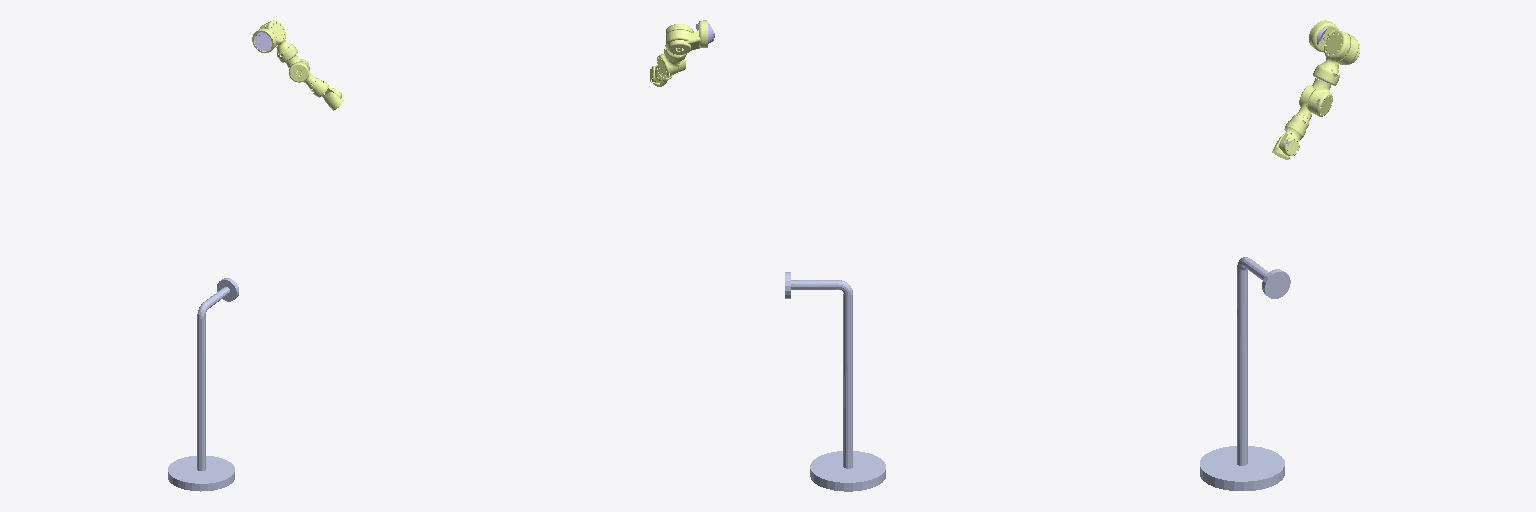
--- Render facts (derived) ---
Views: 3 orthographic renders of the robot side by side, from view 1: azimuth 30°, elevation 25°; view 2: azimuth 150°, elevation 25°; view 3: azimuth 270°, elevation 25°.
Robot: humanoid_arm_5dof — 34 links, 33 joints (6 revolute, 27 fixed); root link base_fixture_link; default pose: all joints at 0.
Visible links, largest first — view 1: base_fixture_link, left_shoulder_roll, left_elbow; view 2: base_fixture_link, left_shoulder_pitch; view 3: base_fixture_link, left_shoulder_roll, left_shoulder_pitch, left_shoulder_yaw, left_wrist.
Boxes of the visible links, x1,y1,x2,y2 form: base_fixture_link: (168,278,238,491); left_shoulder_roll: (265,20,297,62); left_elbow: (289,61,322,92); base_fixture_link: (785,272,885,491); left_shoulder_pitch: (666,20,707,54); base_fixture_link: (1200,257,1290,490); left_shoulder_roll: (1313,31,1350,85); left_shoulder_pitch: (1309,20,1359,64); left_shoulder_yaw: (1308,78,1332,116); left_wrist: (1279,121,1305,155).
Size in the robot's own frame: 1.28 by 0.7498 by 2.62 metres.
Meshes: 34 distinct files referenced, 34 mesh visuals loaded (34 binary STL).

The robot description file, URDF, robot "humanoid_arm_5dof":
<?xml version="1.0" encoding="utf-8"?>
<!-- This URDF was automatically created by SolidWorks to URDF Exporter! Originally created by Stephen Brawner ([email redacted]) 
     Commit Version: 1.6.0-4-g7f85cfe  Build Version: 1.6.7995.38578
     For more information, please see http://wiki.ros.org/sw_urdf_exporter -->
<robot
  name="humanoid_arm_5dof">
  <link
    name="base_fixture_link">
    <inertial>
      <origin
        xyz="0.0200383951813436 0.0118733123574186 0.366640083424823"
        rpy="0 0 0" />
      <mass
        value="10.0408046496141" />
      <inertia
        ixx="2.85095653203043"
        ixy="-0.0251848948200707"
        ixz="-0.217965410721046"
        iyy="2.87853790929507"
        iyz="-0.129150632133139"
        izz="0.185251983223026" />
    </inertial>
    <visual>
      <origin
        xyz="0 0 0"
        rpy="0 0 0" />
      <geometry>
        <mesh
          filename="package://humanoid_arm_5dof/meshes/base_fixture_link.STL" />
      </geometry>
      <material
        name="">
        <color
          rgba="0.792156862745098 0.819607843137255 0.933333333333333 1" />
      </material>
    </visual>
    <collision>
      <origin
        xyz="0 0 0"
        rpy="0 0 0" />
      <geometry>
        <mesh
          filename="package://humanoid_arm_5dof/meshes/base_fixture_link.STL" />
      </geometry>
    </collision>
  </link>
  <link
    name="left_shoulder_pitch_rs04_actuator">
    <inertial>
      <origin
        xyz="-0.0245322216652193 1.17283960321402E-12 -9.62341317745086E-13"
        rpy="0 0 0" />
      <mass
        value="0.517423577893352" />
      <inertia
        ixx="0.000876413569064526"
        ixy="-1.15569175323377E-17"
        ixz="-1.47661559628948E-16"
        iyy="0.000542404795301473"
        iyz="-3.54714747575891E-06"
        izz="0.00054116434911771" />
    </inertial>
    <visual>
      <origin
        xyz="0 0 0"
        rpy="0 0 0" />
      <geometry>
        <mesh
          filename="package://humanoid_arm_5dof/meshes/left_shoulder_pitch_rs04_actuator.STL" />
      </geometry>
      <material
        name="">
        <color
          rgba="0.823529411764706 0.823529411764706 1 1" />
      </material>
    </visual>
    <collision>
      <origin
        xyz="0 0 0"
        rpy="0 0 0" />
      <geometry>
        <mesh
          filename="package://humanoid_arm_5dof/meshes/left_shoulder_pitch_rs04_actuator.STL" />
      </geometry>
    </collision>
  </link>
  <joint
    name="left_shoulder_pitch_rs04_actuator_fixture_link"
    type="fixed">
    <origin
      xyz="0.329242881244431 0.195085661056411 1.45000000000145"
      rpy="-0.61079662163343 0 0.534907346303552" />
    <parent
      link="base_fixture_link" />
    <child
      link="left_shoulder_pitch_rs04_actuator" />
    <axis
      xyz="0 0 0" />
  </joint>
  <link
    name="left_shoulder_pitch_rs04_flange">
    <inertial>
      <origin
        xyz="-0.00188936806429174 -9.55715032069371E-05 2.58079792323507E-05"
        rpy="0 0 0" />
      <mass
        value="0.00758352122244539" />
      <inertia
        ixx="2.3623080270335E-06"
        ixy="3.38151434411678E-21"
        ixz="-3.40136667881805E-21"
        iyy="1.1940642065959E-06"
        iyz="-2.64697796016969E-21"
        izz="1.1940642065959E-06" />
    </inertial>
    <visual>
      <origin
        xyz="0 0 0"
        rpy="0 0 0" />
      <geometry>
        <mesh
          filename="package://humanoid_arm_5dof/meshes/left_shoulder_pitch_rs04_flange.STL" />
      </geometry>
      <material
        name="">
        <color
          rgba="0.823529411764706 0.823529411764706 1 1" />
      </material>
    </visual>
    <collision>
      <origin
        xyz="0 0 0"
        rpy="0 0 0" />
      <geometry>
        <mesh
          filename="package://humanoid_arm_5dof/meshes/left_shoulder_pitch_rs04_flange.STL" />
      </geometry>
    </collision>
  </link>
  <joint
    name="left_shoulder_pitch_rs04_joint"
    type="revolute">
    <origin
      xyz="0 0 0"
      rpy="0 0 0" />
    <parent
      link="left_shoulder_pitch_rs04_actuator" />
    <child
      link="left_shoulder_pitch_rs04_flange" />
    <axis
      xyz="1 0 0" />
    <limit
      lower="-3.14"
      upper="3.14"
      effort="120"
      velocity="3" />
    <safety_controller
      soft_upper_limit="3.14"
      soft_lower_limit="-3.14"
      k_velocity="0" />
  </joint>
  <link
    name="m5x22_screws_left_shoulder_pitch">
    <inertial>
      <origin
        xyz="0.00639350433679509 -0.00479834508260391 0.00128572351563494"
        rpy="0 0 0" />
      <mass
        value="0.00474644340626602" />
      <inertia
        ixx="2.66191925293527E-08"
        ixy="-1.25098390543482E-13"
        ixz="-1.97477628165889E-13"
        iyy="3.31053916794899E-07"
        iyz="8.62570748379259E-14"
        izz="3.31054672965682E-07" />
    </inertial>
    <visual>
      <origin
        xyz="0 0 0"
        rpy="0 0 0" />
      <geometry>
        <mesh
          filename="package://humanoid_arm_5dof/meshes/m5x22_screws_left_shoulder_pitch.STL" />
      </geometry>
      <material
        name="">
        <color
          rgba="0.792156862745098 0.819607843137255 0.933333333333333 1" />
      </material>
    </visual>
    <collision>
      <origin
        xyz="0 0 0"
        rpy="0 0 0" />
      <geometry>
        <mesh
          filename="package://humanoid_arm_5dof/meshes/m5x22_screws_left_shoulder_pitch.STL" />
      </geometry>
    </collision>
  </link>
  <joint
    name="m5x22_screws_left_shoulder_pitch_fixture_joint"
    type="fixed">
    <origin
      xyz="0 0 0"
      rpy="0 0 0" />
    <parent
      link="left_shoulder_pitch_rs04_flange" />
    <child
      link="m5x22_screws_left_shoulder_pitch" />
    <axis
      xyz="0 0 0" />
  </joint>
  <link
    name="left_shoulder_pitch">
    <inertial>
      <origin
        xyz="0.0682474669413152 0.0395514519675162 -5.23399199936492E-06"
        rpy="0 0 0" />
      <mass
        value="1.19772100018969" />
      <inertia
        ixx="0.00347656174617422"
        ixy="-0.00164350112486171"
        ixz="-3.10209101414679E-07"
        iyy="0.00604621894393634"
        iyz="-1.29484961695989E-07"
        izz="0.00615255051609316" />
    </inertial>
    <visual>
      <origin
        xyz="0 0 0"
        rpy="0 0 0" />
      <geometry>
        <mesh
          filename="package://humanoid_arm_5dof/meshes/left_shoulder_pitch.STL" />
      </geometry>
      <material
        name="">
        <color
          rgba="0.952941176470588 0.996078431372549 0.694117647058824 1" />
      </material>
    </visual>
    <collision>
      <origin
        xyz="0 0 0"
        rpy="0 0 0" />
      <geometry>
        <mesh
          filename="package://humanoid_arm_5dof/meshes/left_shoulder_pitch.STL" />
      </geometry>
    </collision>
  </link>
  <joint
    name="left_shoulder_pitch_fixture_joint"
    type="fixed">
    <origin
      xyz="0 0 0"
      rpy="0 0 0" />
    <parent
      link="m5x22_screws_left_shoulder_pitch" />
    <child
      link="left_shoulder_pitch" />
    <axis
      xyz="0 0 0" />
  </joint>
  <link
    name="m5x22_screws_left_shoulder_roll">
    <inertial>
      <origin
        xyz="0.116724155999436 0.0615935045052161 2.41514964096634E-05"
        rpy="0 0 0" />
      <mass
        value="0.00610257053905786" />
      <inertia
        ixx="4.25641380807017E-07"
        ixy="1.38655676077118E-13"
        ixz="4.6529540191251E-13"
        iyy="3.42246799589697E-08"
        iyz="2.62635762215098E-13"
        izz="4.25641102603534E-07" />
    </inertial>
    <visual>
      <origin
        xyz="0 0 0"
        rpy="0 0 0" />
      <geometry>
        <mesh
          filename="package://humanoid_arm_5dof/meshes/m5x22_screws_left_shoulder_roll.STL" />
      </geometry>
      <material
        name="">
        <color
          rgba="0.792156862745098 0.819607843137255 0.933333333333333 1" />
      </material>
    </visual>
    <collision>
      <origin
        xyz="0 0 0"
        rpy="0 0 0" />
      <geometry>
        <mesh
          filename="package://humanoid_arm_5dof/meshes/m5x22_screws_left_shoulder_roll.STL" />
      </geometry>
    </collision>
  </link>
  <joint
    name="m5x22_screws_left_shoulder_roll_fixture_joint"
    type="fixed">
    <origin
      xyz="0 0 0"
      rpy="0 0 0" />
    <parent
      link="left_shoulder_pitch" />
    <child
      link="m5x22_screws_left_shoulder_roll" />
    <axis
      xyz="0 0 0" />
  </joint>
  <link
    name="left_shoulder_roll_rs04_flange">
    <inertial>
      <origin
        xyz="-3.47499806707674E-14 -0.00211063193645256 1.1797052223983E-10"
        rpy="0 0 0" />
      <mass
        value="0.00758352122244542" />
      <inertia
        ixx="1.1940642065959E-06"
        ixy="-8.20563167652603E-22"
        ixz="-4.63221143029695E-22"
        iyy="2.3623080270335E-06"
        iyz="-2.72684316151908E-15"
        izz="1.1940642065959E-06" />
    </inertial>
    <visual>
      <origin
        xyz="0 0 0"
        rpy="0 0 0" />
      <geometry>
        <mesh
          filename="package://humanoid_arm_5dof/meshes/left_shoulder_roll_rs04_flange.STL" />
      </geometry>
      <material
        name="">
        <color
          rgba="0.823529411764706 0.823529411764706 1 1" />
      </material>
    </visual>
    <collision>
      <origin
        xyz="0 0 0"
        rpy="0 0 0" />
      <geometry>
        <mesh
          filename="package://humanoid_arm_5dof/meshes/left_shoulder_roll_rs04_flange.STL" />
      </geometry>
    </collision>
  </link>
  <joint
    name="left_shoulder_roll_rs04_flange_joint"
    type="fixed">
    <origin
      xyz="0.116775431275821 0.0487000000004332 -2.70558071411298E-05"
      rpy="0 0 3.14159265358979" />
    <parent
      link="m5x22_screws_left_shoulder_roll" />
    <child
      link="left_shoulder_roll_rs04_flange" />
    <axis
      xyz="0 0 0" />
  </joint>
  <link
    name="left_shoulder_roll_rs04_actuator">
    <inertial>
      <origin
        xyz="7.5431275761817E-05 0.0205322216645354 2.70558719566161E-05"
        rpy="0 0 0" />
      <mass
        value="0.517423577893356" />
      <inertia
        ixx="0.000542006962748034"
        ixy="-8.42033081173248E-15"
        ixz="-3.59408880621033E-06"
        iyy="0.000876413569064537"
        iyz="-7.81742997158635E-13"
        izz="0.000541562181671229" />
    </inertial>
    <visual>
      <origin
        xyz="0 0 0"
        rpy="0 0 0" />
      <geometry>
        <mesh
          filename="package://humanoid_arm_5dof/meshes/left_shoulder_roll_rs04_actuator.STL" />
      </geometry>
      <material
        name="">
        <color
          rgba="0.823529411764706 0.823529411764706 1 1" />
      </material>
    </visual>
    <collision>
      <origin
        xyz="0 0 0"
        rpy="0 0 0" />
      <geometry>
        <mesh
          filename="package://humanoid_arm_5dof/meshes/left_shoulder_roll_rs04_actuator.STL" />
      </geometry>
    </collision>
  </link>
  <joint
    name="left_shoulder_roll_rs04_joint"
    type="revolute">
    <origin
      xyz="0 0 0"
      rpy="0 0 0" />
    <parent
      link="left_shoulder_roll_rs04_flange" />
    <child
      link="left_shoulder_roll_rs04_actuator" />
    <axis
      xyz="0 -1 0" />
    <limit
      lower="-3.5"
      upper="0.6"
      effort="120"
      velocity="3" />
    <safety_controller
      soft_upper_limit="3.14"
      soft_lower_limit="-3.14"
      k_velocity="0" />
  </joint>
  <link
    name="m4x25_left_shoulder_screws_roll">
    <inertial>
      <origin
        xyz="5.45041063048091E-05 0.0496289837029047 5.40653504537136E-05"
        rpy="0 0 0" />
      <mass
        value="0.00451430348886338" />
      <inertia
        ixx="3.68173387240373E-07"
        ixy="-6.77491685654944E-15"
        ixz="6.50698816450757E-17"
        iyy="1.54230097659287E-08"
        iyz="3.36388331196065E-16"
        izz="3.68173386339836E-07" />
    </inertial>
    <visual>
      <origin
        xyz="0 0 0"
        rpy="0 0 0" />
      <geometry>
        <mesh
          filename="package://humanoid_arm_5dof/meshes/m4x25_left_shoulder_screws_roll.STL" />
      </geometry>
      <material
        name="">
        <color
          rgba="0.792156862745098 0.819607843137255 0.933333333333333 1" />
      </material>
    </visual>
    <collision>
      <origin
        xyz="0 0 0"
        rpy="0 0 0" />
      <geometry>
        <mesh
          filename="package://humanoid_arm_5dof/meshes/m4x25_left_shoulder_screws_roll.STL" />
      </geometry>
    </collision>
  </link>
  <joint
    name="m4x25_left_shoulder_screws_roll_fixture_joint"
    type="fixed">
    <origin
      xyz="0 0 0"
      rpy="0 0 0" />
    <parent
      link="left_shoulder_roll_rs04_actuator" />
    <child
      link="m4x25_left_shoulder_screws_roll" />
    <axis
      xyz="0 0 0" />
  </joint>
  <link
    name="left_shoulder_roll">
    <inertial>
      <origin
        xyz="-0.00752228691013401 0.0497547007138057 -0.0556811680024578"
        rpy="0 0 0" />
      <mass
        value="0.997620690019998" />
      <inertia
        ixx="0.00534467265523802"
        ixy="-8.46143380992818E-05"
        ixz="-0.000430210472532785"
        iyy="0.00591903784526592"
        iyz="-0.000640722365831411"
        izz="0.00178281861548494" />
    </inertial>
    <visual>
      <origin
        xyz="0 0 0"
        rpy="0 0 0" />
      <geometry>
        <mesh
          filename="package://humanoid_arm_5dof/meshes/left_shoulder_roll.STL" />
      </geometry>
      <material
        name="">
        <color
          rgba="0.952941176470588 0.996078431372549 0.694117647058824 1" />
      </material>
    </visual>
    <collision>
      <origin
        xyz="0 0 0"
        rpy="0 0 0" />
      <geometry>
        <mesh
          filename="package://humanoid_arm_5dof/meshes/left_shoulder_roll.STL" />
      </geometry>
    </collision>
  </link>
  <joint
    name="left_shoulde_roll_fixture_joint"
    type="fixed">
    <origin
      xyz="0 0 0"
      rpy="0 0 0" />
    <parent
      link="m4x25_left_shoulder_screws_roll" />
    <child
      link="left_shoulder_roll" />
    <axis
      xyz="0 0 0" />
  </joint>
  <link
    name="m4x16_left_shoulder_yaw_screws">
    <inertial>
      <origin
        xyz="2.30950814028574E-10 5.06211073059148E-10 0.0451525729719058"
        rpy="0 0 0" />
      <mass
        value="0.00270184474693413" />
      <inertia
        ixx="1.03557857485271E-07"
        ixy="1.5585002358545E-16"
        ixz="-1.92166044513534E-15"
        iyy="1.0355785773746E-07"
        iyz="-4.01415381842613E-15"
        izz="1.05098007898705E-08" />
    </inertial>
    <visual>
      <origin
        xyz="0 0 0"
        rpy="0 0 0" />
      <geometry>
        <mesh
          filename="package://humanoid_arm_5dof/meshes/m4x16_left_shoulder_yaw_screws.STL" />
      </geometry>
      <material
        name="">
        <color
          rgba="0.792156862745098 0.819607843137255 0.933333333333333 1" />
      </material>
    </visual>
    <collision>
      <origin
        xyz="0 0 0"
        rpy="0 0 0" />
      <geometry>
        <mesh
          filename="package://humanoid_arm_5dof/meshes/m4x16_left_shoulder_yaw_screws.STL" />
      </geometry>
    </collision>
  </link>
  <joint
    name="m4x16_left_shoulder_yaw_screws_fixture_joint"
    type="fixed">
    <origin
      xyz="-0.021972 0.0377 -0.17358"
      rpy="0.057123 0.11257 0.47088" />
    <parent
      link="left_shoulder_roll" />
    <child
      link="m4x16_left_shoulder_yaw_screws" />
    <axis
      xyz="0 0 0" />
  </joint>
  <link
    name="left_shoulder_yaw_rs03_actuator">
    <inertial>
      <origin
        xyz="-0.000137350571109196 -0.000269996934420202 0.02508416517084"
        rpy="0 0 0" />
      <mass
        value="0.356550969588108" />
      <inertia
        ixx="0.000274320425080908"
        ixy="-2.07349930601436E-06"
        ixz="-2.56253646594402E-07"
        iyy="0.000271291938182262"
        iyz="-5.14924748624114E-07"
        izz="0.000381662133737712" />
    </inertial>
    <visual>
      <origin
        xyz="0 0 0"
        rpy="0 0 0" />
      <geometry>
        <mesh
          filename="package://humanoid_arm_5dof/meshes/left_shoulder_yaw_rs03_actuator.STL" />
      </geometry>
      <material
        name="">
        <color
          rgba="0.823529411764706 0.823529411764706 1 1" />
      </material>
    </visual>
    <collision>
      <origin
        xyz="0 0 0"
        rpy="0 0 0" />
      <geometry>
        <mesh
          filename="package://humanoid_arm_5dof/meshes/left_shoulder_yaw_rs03_actuator.STL" />
      </geometry>
    </collision>
  </link>
  <joint
    name="left_shoulder_yaw_rs03_actuator_fixture_link"
    type="fixed">
    <origin
      xyz="0 0 0"
      rpy="0 0 0" />
    <parent
      link="m4x16_left_shoulder_yaw_screws" />
    <child
      link="left_shoulder_yaw_rs03_actuator" />
    <axis
      xyz="0 0 0" />
  </joint>
  <link
    name="left_shoulder_yaw_rs03_flange">
    <inertial>
      <origin
        xyz="-1.87114213012762E-10 -3.64114516315794E-10 -0.00125625967423182"
        rpy="0 0 0" />
      <mass
        value="0.00407555097398881" />
      <inertia
        ixx="5.67676746163435E-07"
        ixy="1.60142166590266E-21"
        ixz="6.47210061448945E-16"
        iyy="5.6767674616344E-07"
        iyz="1.28044726556791E-15"
        izz="1.13114082374845E-06" />
    </inertial>
    <visual>
      <origin
        xyz="0 0 0"
        rpy="0 0 0" />
      <geometry>
        <mesh
          filename="package://humanoid_arm_5dof/meshes/left_shoulder_yaw_rs03_flange.STL" />
      </geometry>
      <material
        name="">
        <color
          rgba="0.823529411764706 0.823529411764706 1 1" />
      </material>
    </visual>
    <collision>
      <origin
        xyz="0 0 0"
        rpy="0 0 0" />
      <geometry>
        <mesh
          filename="package://humanoid_arm_5dof/meshes/left_shoulder_yaw_rs03_flange.STL" />
      </geometry>
    </collision>
  </link>
  <joint
    name="left_shoulder_yaw_rs03_joint"
    type="revolute">
    <origin
      xyz="0 0 0"
      rpy="0 0 0" />
    <parent
      link="left_shoulder_yaw_rs03_actuator" />
    <child
      link="left_shoulder_yaw_rs03_flange" />
    <axis
      xyz="0 0 1" />
    <limit
      lower="-3.14"
      upper="3.14"
      effort="60"
      velocity="1.6" />
    <safety_controller
      soft_upper_limit="3.14"
      soft_lower_limit="-3.14"
      k_velocity="0" />
  </joint>
  <link
    name="left_shoulder_yaw_shaft">
    <inertial>
      <origin
        xyz="-2.02680094929519E-10 -3.89372090126017E-10 -0.0119851125561186"
        rpy="0 0 0" />
      <mass
        value="0.000903649674374" />
      <inertia
        ixx="4.41715688076243E-08"
        ixy="-6.82424005356248E-24"
        ixz="-4.86629629806428E-17"
        iyy="4.41715688076243E-08"
        iyz="-9.62753835773825E-17"
        izz="1.8053981329595E-09" />
    </inertial>
    <visual>
      <origin
        xyz="0 0 0"
        rpy="0 0 0" />
      <geometry>
        <mesh
          filename="package://humanoid_arm_5dof/meshes/left_shoulder_yaw_shaft.STL" />
      </geometry>
      <material
        name="">
        <color
          rgba="0.823529411764706 0.823529411764706 1 1" />
      </material>
    </visual>
    <collision>
      <origin
        xyz="0 0 0"
        rpy="0 0 0" />
      <geometry>
        <mesh
          filename="package://humanoid_arm_5dof/meshes/left_shoulder_yaw_shaft.STL" />
      </geometry>
    </collision>
  </link>
  <joint
    name="left_shoulder_yaw_shaft_fixture_joint"
    type="fixed">
    <origin
      xyz="0 0 0"
      rpy="0 0 0" />
    <parent
      link="left_shoulder_yaw_rs03_flange" />
    <child
      link="left_shoulder_yaw_shaft" />
    <axis
      xyz="0 0 0" />
    <limit
      lower="0"
      upper="0"
      effort="0"
      velocity="0" />
  </joint>
  <link
    name="left_shoulder_yaw_flange">
    <inertial>
      <origin
        xyz="-1.95517602108453E-10 -3.76683129132971E-10 -0.00898037825638709"
        rpy="0 0 0" />
      <mass
        value="0.035353146109952" />
      <inertia
        ixx="9.85459914701274E-06"
        ixy="-7.54070449822593E-08"
        ixz="1.07041732007387E-14"
        iyy="9.5933770582241E-06"
        iyz="2.03233659115925E-14"
        izz="1.87117812635894E-05" />
    </inertial>
    <visual>
      <origin
        xyz="0 0 0"
        rpy="0 0 0" />
      <geometry>
        <mesh
          filename="package://humanoid_arm_5dof/meshes/left_shoulder_yaw_flange.STL" />
      </geometry>
      <material
        name="">
        <color
          rgba="0.952941176470588 0.996078431372549 0.694117647058824 1" />
      </material>
    </visual>
    <collision>
      <origin
        xyz="0 0 0"
        rpy="0 0 0" />
      <geometry>
        <mesh
          filename="package://humanoid_arm_5dof/meshes/left_shoulder_yaw_flange.STL" />
      </geometry>
    </collision>
  </link>
  <joint
    name="left_shoulder_yaw_flange_fixture_joint"
    type="fixed">
    <origin
      xyz="0 0 0"
      rpy="0 0 0" />
    <parent
      link="left_shoulder_yaw_shaft" />
    <child
      link="left_shoulder_yaw_flange" />
    <axis
      xyz="0 0 0" />
  </joint>
  <link
    name="1220_m4x16_left_shoulder_yaw_screws">
    <inertial>
      <origin
        xyz="-2.81852874373101E-10 1.37418965096003E-11 -0.0114719356062276"
        rpy="0 0 0" />
      <mass
        value="0.0014103641869818" />
      <inertia
        ixx="3.71610598568609E-08"
        ixy="-3.34573878262386E-21"
        ixz="-3.74186542691842E-17"
        iyy="3.71610598568593E-08"
        iyz="-7.40170108439937E-17"
        izz="4.58636225470942E-09" />
    </inertial>
    <visual>
      <origin
        xyz="0 0 0"
        rpy="0 0 0" />
      <geometry>
        <mesh
          filename="package://humanoid_arm_5dof/meshes/1220_m4x16_left_shoulder_yaw_screws.STL" />
      </geometry>
      <material
        name="">
        <color
          rgba="0.792156862745098 0.819607843137255 0.933333333333333 1" />
      </material>
    </visual>
    <collision>
      <origin
        xyz="0 0 0"
        rpy="0 0 0" />
      <geometry>
        <mesh
          filename="package://humanoid_arm_5dof/meshes/1220_m4x16_left_shoulder_yaw_screws.STL" />
      </geometry>
    </collision>
  </link>
  <joint
    name="1220_m4x16_left_shoulder_yaw_screws_fixture_joint"
    type="fixed">
    <origin
      xyz="0 0 0"
      rpy="0 0 0" />
    <parent
      link="left_shoulder_yaw_flange" />
    <child
      link="1220_m4x16_left_shoulder_yaw_screws" />
    <axis
      xyz="0 0 0" />
  </joint>
  <link
    name="m4x25_left_shoulder_yaw_screws">
    <inertial>
      <origin
        xyz="-7.14075243379853E-10 -1.46624090646696E-09 -0.0144289836576852"
        rpy="0 0 0" />
      <mass
        value="0.00270858202481966" />
      <inertia
        ixx="2.20903769276245E-07"
        ixy="4.52767736253233E-13"
        ixz="-2.02342446045285E-15"
        iyy="2.2090429349599E-07"
        iyz="-4.21234135285762E-15"
        izz="9.25380471510245E-09" />
    </inertial>
    <visual>
      <origin
        xyz="0 0 0"
        rpy="0 0 0" />
      <geometry>
        <mesh
          filename="package://humanoid_arm_5dof/meshes/m4x25_left_shoulder_yaw_screws.STL" />
      </geometry>
      <material
        name="">
        <color
          rgba="0.792156862745098 0.819607843137255 0.933333333333333 1" />
      </material>
    </visual>
    <collision>
      <origin
        xyz="0 0 0"
        rpy="0 0 0" />
      <geometry>
        <mesh
          filename="package://humanoid_arm_5dof/meshes/m4x25_left_shoulder_yaw_screws.STL" />
      </geometry>
    </collision>
  </link>
  <joint
    name="m4x25_left_shoulder_yaw_screws_fixture_joint"
    type="fixed">
    <origin
      xyz="0 0 0"
      rpy="0 0 0" />
    <parent
      link="1220_m4x16_left_shoulder_yaw_screws" />
    <child
      link="m4x25_left_shoulder_yaw_screws" />
    <axis
      xyz="0 0 0" />
  </joint>
  <link
    name="left_shoulder_yaw">
    <inertial>
      <origin
        xyz="-0.0276085511800001 1.01191147727775E-06 -0.0766319307372525"
        rpy="0 0 0" />
      <mass
        value="0.488068654985182" />
      <inertia
        ixx="0.00146908224164198"
        ixy="2.07765537622168E-07"
        ixz="-0.0002712158976042"
        iyy="0.00131630379047452"
        iyz="6.91084280013616E-08"
        izz="0.000811624953253176" />
    </inertial>
    <visual>
      <origin
        xyz="0 0 0"
        rpy="0 0 0" />
      <geometry>
        <mesh
          filename="package://humanoid_arm_5dof/meshes/left_shoulder_yaw.STL" />
      </geometry>
      <material
        name="">
        <color
          rgba="0.952941176470588 0.996078431372549 0.694117647058824 1" />
      </material>
    </visual>
    <collision>
      <origin
        xyz="0 0 0"
        rpy="0 0 0" />
      <geometry>
        <mesh
          filename="package://humanoid_arm_5dof/meshes/left_shoulder_yaw.STL" />
      </geometry>
    </collision>
  </link>
  <joint
    name="left_shoulder_yaw_fixture_joint"
    type="fixed">
    <origin
      xyz="0 0 0"
      rpy="0 0 0" />
    <parent
      link="m4x25_left_shoulder_yaw_screws" />
    <child
      link="left_shoulder_yaw" />
    <axis
      xyz="0 0 0" />
  </joint>
  <link
    name="m4x16_eft_elbow_screws">
    <inertial>
      <origin
        xyz="0.0203953561620978 0.0412900580937556 9.08278563471754E-10"
        rpy="0 0 0" />
      <mass
        value="0.00270184358647752" />
      <inertia
        ixx="8.53078780998125E-08"
        ixy="-3.69467570072025E-08"
        ixz="-1.81084961912539E-15"
        iyy="2.8759756336897E-08"
        iyz="-3.58607420046829E-15"
        izz="1.03557847634921E-07" />
    </inertial>
    <visual>
      <origin
        xyz="0 0 0"
        rpy="0 0 0" />
      <geometry>
        <mesh
          filename="package://humanoid_arm_5dof/meshes/m4x16_eft_elbow_screws.STL" />
      </geometry>
      <material
        name="">
        <color
          rgba="0.792156862745098 0.819607843137255 0.933333333333333 1" />
      </material>
    </visual>
    <collision>
      <origin
        xyz="0 0 0"
        rpy="0 0 0" />
      <geometry>
        <mesh
          filename="package://humanoid_arm_5dof/meshes/m4x16_eft_elbow_screws.STL" />
      </geometry>
    </collision>
  </link>
  <joint
    name="m4x16_eft_elbow_screws_fixture_joint"
    type="fixed">
    <origin
      xyz="0 0 -0.0987000004167595"
      rpy="0 0 2.02959481544726" />
    <parent
      link="left_shoulder_yaw" />
    <child
      link="m4x16_eft_elbow_screws" />
    <axis
      xyz="0 0 0" />
  </joint>
  <link
    name="left_elbow_rs03_actuator">
    <inertial>
      <origin
        xyz="0.0111097812067071 0.022489732261155 -0.000302908478301722"
        rpy="0 0 0" />
      <mass
        value="0.35655089089686" />
      <inertia
        ixx="0.000296217970952692"
        ixy="4.22025243355313E-05"
        ixz="-2.44834218567739E-07"
        iyy="0.000360818228627732"
        iyz="-5.20600164179532E-07"
        izz="0.000270239476177012" />
    </inertial>
    <visual>
      <origin
        xyz="0 0 0"
        rpy="0 0 0" />
      <geometry>
        <mesh
          filename="package://humanoid_arm_5dof/meshes/left_elbow_rs03_actuator.STL" />
      </geometry>
      <material
        name="">
        <color
          rgba="0.823529411764706 0.823529411764706 1 1" />
      </material>
    </visual>
    <collision>
      <origin
        xyz="0 0 0"
        rpy="0 0 0" />
      <geometry>
        <mesh
          filename="package://humanoid_arm_5dof/meshes/left_elbow_rs03_actuator.STL" />
      </geometry>
    </collision>
  </link>
  <joint
    name="left_elbow_rs03_actuator_ficture_link"
    type="fixed">
    <origin
      xyz="0 0 0"
      rpy="0 0 0" />
    <parent
      link="m4x16_eft_elbow_screws" />
    <child
      link="left_elbow_rs03_actuator" />
    <axis
      xyz="0 0 0" />
  </joint>
  <link
    name="left_elbow_rs03_flange">
    <inertial>
      <origin
        xyz="-0.000556362193148363 -0.00112634311572446 -1.66571867410426E-10"
        rpy="0 0 0" />
      <mass
        value="0.00407555097398885" />
      <inertia
        ixx="6.7819170155555E-07"
        ixy="2.23735674477819E-07"
        ixz="2.60474555916408E-16"
        iyy="1.02062586835636E-06"
        iyz="5.27326436127583E-16"
        izz="5.67676746163446E-07" />
    </inertial>
    <visual>
      <origin
        xyz="0 0 0"
        rpy="0 0 0" />
      <geometry>
        <mesh
          filename="package://humanoid_arm_5dof/meshes/left_elbow_rs03_flange.STL" />
      </geometry>
      <material
        name="">
        <color
          rgba="0.823529411764706 0.823529411764706 1 1" />
      </material>
    </visual>
    <collision>
      <origin
        xyz="0 0 0"
        rpy="0 0 0" />
      <geometry>
        <mesh
          filename="package://humanoid_arm_5dof/meshes/left_elbow_rs03_flange.STL" />
      </geometry>
    </collision>
  </link>
  <joint
    name="left_elbow_rs03_joint"
    type="revolute">
    <origin
      xyz="0 0 0"
      rpy="0 0 0" />
    <parent
      link="left_elbow_rs03_actuator" />
    <child
      link="left_elbow_rs03_flange" />
    <axis
      xyz="0.442871169532447 0.896585259301625 0" />
    <limit
      lower="-1.3"
      upper="1.9"
      effort="60"
      velocity="1.6" />
    <safety_controller
      soft_upper_limit="3.14"
      soft_lower_limit="-3.14"
      k_velocity="0" />
  </joint>
  <link
    name="left_elbow_shaft">
    <inertial>
      <origin
        xyz="-0.514023069140735 0.0789116755168446 -0.294612658289237"
        rpy="0 0 0" />
      <mass
        value="16.3859228521728" />
      <inertia
        ixx="4.1673871202224"
        ixy="0.924028147321054"
        ixz="-3.13052394045389"
        iyy="7.10700853734092"
        iyz="1.12422208277889"
        izz="3.92149051316227" />
    </inertial>
    <visual>
      <origin
        xyz="0 0 0"
        rpy="0 0 0" />
      <geometry>
        <mesh
          filename="package://humanoid_arm_5dof/meshes/left_elbow_shaft.STL" />
      </geometry>
      <material
        name="">
        <color
          rgba="0.752941176470588 0.752941176470588 0.752941176470588 1" />
      </material>
    </visual>
    <collision>
      <origin
        xyz="0 0 0"
        rpy="0 0 0" />
      <geometry>
        <mesh
          filename="package://humanoid_arm_5dof/meshes/left_elbow_shaft.STL" />
      </geometry>
    </collision>
  </link>
  <joint
    name="left_elbow_shaft_fixture_joint"
    type="fixed">
    <origin
      xyz="0 0 0"
      rpy="0 0 0" />
    <parent
      link="left_elbow_rs03_flange" />
    <child
      link="left_elbow_shaft" />
    <axis
      xyz="0 0 0" />
  </joint>
  <link
    name="m4x25_left_elbow_screws">
    <inertial>
      <origin
        xyz="-0.00623517634432247 -0.0126230081894332 -1.57502966224854E-09"
        rpy="0 0 0" />
      <mass
        value="0.00270858033444496" />
      <inertia
        ixx="1.79392020952072E-07"
        ixy="-8.40403333155854E-08"
        ixz="-2.22145094796311E-15"
        iyy="5.0765769574879E-08"
        iyz="-4.80384087242943E-15"
        izz="2.20904014947486E-07" />
    </inertial>
    <visual>
      <origin
        xyz="0 0 0"
        rpy="0 0 0" />
      <geometry>
        <mesh
          filename="package://humanoid_arm_5dof/meshes/m4x25_left_elbow_screws.STL" />
      </geometry>
      <material
        name="">
        <color
          rgba="0.792156862745098 0.819607843137255 0.933333333333333 1" />
      </material>
    </visual>
    <collision>
      <origin
        xyz="0 0 0"
        rpy="0 0 0" />
      <geometry>
        <mesh
          filename="package://humanoid_arm_5dof/meshes/m4x25_left_elbow_screws.STL" />
      </geometry>
    </collision>
  </link>
  <joint
    name="m4x25_left_elbow_screws_fixture_joint"
    type="fixed">
    <origin
      xyz="0 0 0"
      rpy="0 0 0" />
    <parent
      link="left_elbow_shaft" />
    <child
      link="m4x25_left_elbow_screws" />
    <axis
      xyz="0 0 0" />
  </joint>
  <link
    name="left_elbow">
    <inertial>
      <origin
        xyz="-0.00117659887327504 -0.0226416994032843 -0.0323595586651757"
        rpy="0 0 0" />
      <mass
        value="0.779765455632657" />
      <inertia
        ixx="0.00250248627290095"
        ixy="0.000107026109490901"
        ixz="0.000573101025966973"
        iyy="0.0029164827029391"
        iyz="0.000125954185253177"
        izz="0.000972784435246921" />
    </inertial>
    <visual>
      <origin
        xyz="0 0 0"
        rpy="0 0 0" />
      <geometry>
        <mesh
          filename="package://humanoid_arm_5dof/meshes/left_elbow.STL" />
      </geometry>
      <material
        name="">
        <color
          rgba="0.952941176470588 0.996078431372549 0.694117647058824 1" />
      </material>
    </visual>
    <collision>
      <origin
        xyz="0 0 0"
        rpy="0 0 0" />
      <geometry>
        <mesh
          filename="package://humanoid_arm_5dof/meshes/left_elbow.STL" />
      </geometry>
    </collision>
  </link>
  <joint
    name="left_elbow_fixture_joint"
    type="fixed">
    <origin
      xyz="0 0 0"
      rpy="0 0 0" />
    <parent
      link="m4x25_left_elbow_screws" />
    <child
      link="left_elbow" />
    <axis
      xyz="0 0 0" />
  </joint>
  <link
    name="m3x20_left_wrist_screws">
    <inertial>
      <origin
        xyz="-0.00322617497203437 -0.0374854487546337 0.00322633891040525"
        rpy="0 0 0" />
      <mass
        value="0.00162137028637936" />
      <inertia
        ixx="8.36724015923329E-08"
        ixy="7.16921388671075E-16"
        ixz="-1.09755048245885E-14"
        iyy="3.32920091139157E-09"
        iyz="-1.16692689852525E-13"
        izz="8.36724115121392E-08" />
    </inertial>
    <visual>
      <origin
        xyz="0 0 0"
        rpy="0 0 0" />
      <geometry>
        <mesh
          filename="package://humanoid_arm_5dof/meshes/m3x20_left_wrist_screws.STL" />
      </geometry>
      <material
        name="">
        <color
          rgba="0.792156862745098 0.819607843137255 0.933333333333333 1" />
      </material>
    </visual>
    <collision>
      <origin
        xyz="0 0 0"
        rpy="0 0 0" />
      <geometry>
        <mesh
          filename="package://humanoid_arm_5dof/meshes/m3x20_left_wrist_screws.STL" />
      </geometry>
    </collision>
  </link>
  <joint
    name="m3x20_left_wrist_screws_fixture_joint"
    type="fixed">
    <origin
      xyz="0.0370688771049235 -0.0244446769789257 -0.15848929336033"
      rpy="-1.29963611177836 0 -2.02959481544726" />
    <parent
      link="left_elbow" />
    <child
      link="m3x20_left_wrist_screws" />
    <axis
      xyz="0 0 0" />
  </joint>
  <link
    name="left_wrist_actuator">
    <inertial>
      <origin
        xyz="-4.13003742316675E-10 -0.0230138334560079 1.84853627072101E-07"
        rpy="0 0 0" />
      <mass
        value="0.180583065420556" />
      <inertia
        ixx="8.80899821792287E-05"
        ixy="-3.82899833496449E-14"
        ixz="-1.46960216348621E-19"
        iyy="0.000127000739066128"
        iyz="5.64597535051919E-11"
        izz="8.80899821793108E-05" />
    </inertial>
    <visual>
      <origin
        xyz="0 0 0"
        rpy="0 0 0" />
      <geometry>
        <mesh
          filename="package://humanoid_arm_5dof/meshes/left_wrist_actuator.STL" />
      </geometry>
      <material
        name="">
        <color
          rgba="0.823529411764706 0.823529411764706 1 1" />
      </material>
    </visual>
    <collision>
      <origin
        xyz="0 0 0"
        rpy="0 0 0" />
      <geometry>
        <mesh
          filename="package://humanoid_arm_5dof/meshes/left_wrist_actuator.STL" />
      </geometry>
    </collision>
  </link>
  <joint
    name="left_wrist_actuator_fixture_link"
    type="fixed">
    <origin
      xyz="0 0 0"
      rpy="0 0 0" />
    <parent
      link="m3x20_left_wrist_screws" />
    <child
      link="left_wrist_actuator" />
    <axis
      xyz="0 0 0" />
  </joint>
  <link
    name="left_wrist_rs02_flange">
    <inertial>
      <origin
        xyz="-4.82471951279706E-10 -0.00198993498129152 2.15794503155564E-07"
        rpy="0 0 0" />
      <mass
        value="0.00245793392108136" />
      <inertia
        ixx="1.34950766910331E-07"
        ixy="-1.2632138736079E-16"
        ixz="-5.00444270594582E-22"
        iyy="2.63403217776607E-07"
        iyz="1.8638535856553E-13"
        izz="1.34950766910602E-07" />
    </inertial>
    <visual>
      <origin
        xyz="0 0 0"
        rpy="0 0 0" />
      <geometry>
        <mesh
          filename="package://humanoid_arm_5dof/meshes/left_wrist_rs02_flange.STL" />
      </geometry>
      <material
        name="">
        <color
          rgba="0.823529411764706 0.823529411764706 1 1" />
      </material>
    </visual>
    <collision>
      <origin
        xyz="0 0 0"
        rpy="0 0 0" />
      <geometry>
        <mesh
          filename="package://humanoid_arm_5dof/meshes/left_wrist_rs02_flange.STL" />
      </geometry>
    </collision>
  </link>
  <joint
    name="left_wrist_rs02_joint"
    type="revolute">
    <origin
      xyz="0 0 0"
      rpy="0 0 0" />
    <parent
      link="left_wrist_actuator" />
    <child
      link="left_wrist_rs02_flange" />
    <axis
      xyz="0 1 0" />
    <limit
      lower="-3.14"
      upper="3.14"
      effort="17"
      velocity="0.8" />
    <safety_controller
      soft_upper_limit="3.14"
      soft_lower_limit="-3.14"
      k_velocity="0" />
  </joint>
  <link
    name="m4x20_left_wrist_screws">
    <inertial>
      <origin
        xyz="3.318480701342E-08 0.00840266502725395 2.522636832758E-07"
        rpy="0 0 0" />
      <mass
        value="0.00232797016313296" />
      <inertia
        ixx="1.29587507987155E-07"
        ixy="-3.32247975473364E-13"
        ixz="3.13118102496286E-13"
        iyy="8.48546817357487E-09"
        iyz="-3.85647119718327E-13"
        izz="1.295872206399E-07" />
    </inertial>
    <visual>
      <origin
        xyz="0 0 0"
        rpy="0 0 0" />
      <geometry>
        <mesh
          filename="package://humanoid_arm_5dof/meshes/m4x20_left_wrist_screws.STL" />
      </geometry>
      <material
        name="">
        <color
          rgba="0.792156862745098 0.819607843137255 0.933333333333333 1" />
      </material>
    </visual>
    <collision>
      <origin
        xyz="0 0 0"
        rpy="0 0 0" />
      <geometry>
        <mesh
          filename="package://humanoid_arm_5dof/meshes/m4x20_left_wrist_screws.STL" />
      </geometry>
    </collision>
  </link>
  <joint
    name="m4x20_left_wrist_screws_fixture_joint"
    type="fixed">
    <origin
      xyz="0 0 0"
      rpy="0 0 0" />
    <parent
      link="left_wrist_rs02_flange" />
    <child
      link="m4x20_left_wrist_screws" />
    <axis
      xyz="0 0 0" />
  </joint>
  <link
    name="left_wrist_shaft">
    <inertial>
      <origin
        xyz="-4.92402230101163E-10 0.00798511240994593 2.30268373258014E-07"
        rpy="0 0 0" />
      <mass
        value="0.000903649674374024" />
      <inertia
        ixx="4.41715688076261E-08"
        ixy="4.16630927954905E-17"
        ixz="5.75924501490046E-23"
        iyy="1.80539813304875E-09"
        iyz="-6.14735948000537E-14"
        izz="4.41715688075369E-08" />
    </inertial>
    <visual>
      <origin
        xyz="0 0 0"
        rpy="0 0 0" />
      <geometry>
        <mesh
          filename="package://humanoid_arm_5dof/meshes/left_wrist_shaft.STL" />
      </geometry>
      <material
        name="">
        <color
          rgba="0.823529411764706 0.823529411764706 1 1" />
      </material>
    </visual>
    <collision>
      <origin
        xyz="0 0 0"
        rpy="0 0 0" />
      <geometry>
        <mesh
          filename="package://humanoid_arm_5dof/meshes/left_wrist_shaft.STL" />
      </geometry>
    </collision>
  </link>
  <joint
    name="left_wrist_shaft_fixture_joint"
    type="fixed">
    <origin
      xyz="0 0 0"
      rpy="0 0 0" />
    <parent
      link="m4x20_left_wrist_screws" />
    <child
      link="left_wrist_shaft" />
    <axis
      xyz="0 0 0" />
  </joint>
  <link
    name="left_wrist">
    <inertial>
      <origin
        xyz="-0.0126284320374921 0.0418086804500857 0.00594051710051513"
        rpy="0 0 0" />
      <mass
        value="0.38895090516656" />
      <inertia
        ixx="0.000833659232870932"
        ixy="0.000191177317797681"
        ixz="2.04628372102838E-06"
        iyy="0.000517833926370932"
        iyz="-8.95573646182272E-05"
        izz="0.000838969451703103" />
    </inertial>
    <visual>
      <origin
        xyz="0 0 0"
        rpy="0 0 0" />
      <geometry>
        <mesh
          filename="package://humanoid_arm_5dof/meshes/left_wrist.STL" />
      </geometry>
      <material
        name="">
        <color
          rgba="0.952941176470588 0.996078431372549 0.694117647058824 1" />
      </material>
    </visual>
    <collision>
      <origin
        xyz="0 0 0"
        rpy="0 0 0" />
      <geometry>
        <mesh
          filename="package://humanoid_arm_5dof/meshes/left_wrist.STL" />
      </geometry>
    </collision>
  </link>
  <joint
    name="left_wrist_fixture_joint"
    type="fixed">
    <origin
      xyz="0 0 0"
      rpy="0 0 0" />
    <parent
      link="left_wrist_shaft" />
    <child
      link="left_wrist" />
    <axis
      xyz="0 0 0" />
  </joint>
  <link
    name="m3x16_left_hand_screws">
    <inertial>
      <origin
        xyz="-0.0363345852832491 0.00271819509271642 0.00366478140739768"
        rpy="0 0 0" />
      <mass
        value="0.0013937417473266" />
      <inertia
        ixx="3.07153113593302E-09"
        ixy="-6.5417488854761E-15"
        ixz="-1.5862504728051E-14"
        iyy="4.88927935104843E-08"
        iyz="1.38689171238355E-16"
        izz="4.88928835911864E-08" />
    </inertial>
    <visual>
      <origin
        xyz="0 0 0"
        rpy="0 0 0" />
      <geometry>
        <mesh
          filename="package://humanoid_arm_5dof/meshes/m3x16_left_hand_screws.STL" />
      </geometry>
      <material
        name="">
        <color
          rgba="0.792156862745098 0.819607843137255 0.933333333333333 1" />
      </material>
    </visual>
    <collision>
      <origin
        xyz="0 0 0"
        rpy="0 0 0" />
      <geometry>
        <mesh
          filename="package://humanoid_arm_5dof/meshes/m3x16_left_hand_screws.STL" />
      </geometry>
    </collision>
  </link>
  <joint
    name="m3x16_left_hand_screws_fixture_joint"
    type="fixed">
    <origin
      xyz="0 0.0944999999998815 0"
      rpy="0.644848119833412 0.444064009162365 0" />
    <parent
      link="left_wrist" />
    <child
      link="m3x16_left_hand_screws" />
    <axis
      xyz="0 0 0" />
  </joint>
  <link
    name="left_hand_rs02">
    <inertial>
      <origin
        xyz="-0.0230139815130013 1.75887512554596E-07 2.56052493208259E-07"
        rpy="0 0 0" />
      <mass
        value="0.180583065420555" />
      <inertia
        ixx="0.000127000739066197"
        ixy="1.77900201711936E-11"
        ixz="-1.33876787626152E-11"
        iyy="8.80899821792351E-05"
        iyz="-5.95017248351714E-18"
        izz="8.80899821792316E-05" />
    </inertial>
    <visual>
      <origin
        xyz="0 0 0"
        rpy="0 0 0" />
      <geometry>
        <mesh
          filename="package://humanoid_arm_5dof/meshes/left_hand_rs02.STL" />
      </geometry>
      <material
        name="">
        <color
          rgba="0.823529411764706 0.823529411764706 1 1" />
      </material>
    </visual>
    <collision>
      <origin
        xyz="0 0 0"
        rpy="0 0 0" />
      <geometry>
        <mesh
          filename="package://humanoid_arm_5dof/meshes/left_hand_rs02.STL" />
      </geometry>
    </collision>
  </link>
  <joint
    name="left_hand_rs02_fixture_link"
    type="fixed">
    <origin
      xyz="0 0 0"
      rpy="0 0 0" />
    <parent
      link="m3x16_left_hand_screws" />
    <child
      link="left_hand_rs02" />
    <axis
      xyz="0 0 0" />
  </joint>
  <link
    name="left_hand_rs02_flange">
    <inertial>
      <origin
        xyz="-0.00201021341743707 1.85490444337688E-07 2.48825936743913E-07"
        rpy="0 0 0" />
      <mass
        value="0.00245793392108137" />
      <inertia
        ixx="2.63403217776839E-07"
        ixy="5.87286095370486E-14"
        ixz="-4.41955456994307E-14"
        iyy="1.34950766910359E-07"
        iyz="-2.04664433837912E-20"
        izz="1.34950766910349E-07" />
    </inertial>
    <visual>
      <origin
        xyz="0 0 0"
        rpy="0 0 0" />
      <geometry>
        <mesh
          filename="package://humanoid_arm_5dof/meshes/left_hand_rs02_flange.STL" />
      </geometry>
      <material
        name="">
        <color
          rgba="0.823529411764706 0.823529411764706 1 1" />
      </material>
    </visual>
    <collision>
      <origin
        xyz="0 0 0"
        rpy="0 0 0" />
      <geometry>
        <mesh
          filename="package://humanoid_arm_5dof/meshes/left_hand_rs02_flange.STL" />
      </geometry>
    </collision>
  </link>
  <joint
    name="left_hand_rs02_joint"
    type="revolute">
    <origin
      xyz="0 0 0"
      rpy="0 0 0" />
    <parent
      link="left_hand_rs02" />
    <child
      link="left_hand_rs02_flange" />
    <axis
      xyz="0.999999999999999 0 0" />
    <limit
      lower="-1.5"
      upper="1.7"
      effort="17"
      velocity="0.8" />
    <safety_controller
      soft_upper_limit="1.7"
      soft_lower_limit="-1.5"
      k_velocity="0" />
  </joint>
  <link
    name="left_hand">
    <inertial>
      <origin
        xyz="0.0119773488613211 0.0114767033189933 -0.0111414954392139"
        rpy="0 0 0" />
      <mass
        value="0.285530357048999" />
      <inertia
        ixx="0.000354627591386541"
        ixy="1.61688666535748E-05"
        ixz="-1.60212250645352E-05"
        iyy="0.000247513435753137"
        iyz="3.07039739705686E-05"
        izz="0.000247329282032819" />
    </inertial>
    <visual>
      <origin
        xyz="0 0 0"
        rpy="0 0 0" />
      <geometry>
        <mesh
          filename="package://humanoid_arm_5dof/meshes/left_hand.STL" />
      </geometry>
      <material
        name="">
        <color
          rgba="0.952941176470588 0.996078431372549 0.694117647058824 1" />
      </material>
    </visual>
    <collision>
      <origin
        xyz="0 0 0"
        rpy="0 0 0" />
      <geometry>
        <mesh
          filename="package://humanoid_arm_5dof/meshes/left_hand.STL" />
      </geometry>
    </collision>
  </link>
  <joint
    name="left_hand_fixture_joint"
    type="fixed">
    <origin
      xyz="0 0 0"
      rpy="0 0 0" />
    <parent
      link="left_hand_rs02_flange" />
    <child
      link="left_hand" />
    <axis
      xyz="0 0 0" />
  </joint>
</robot>
